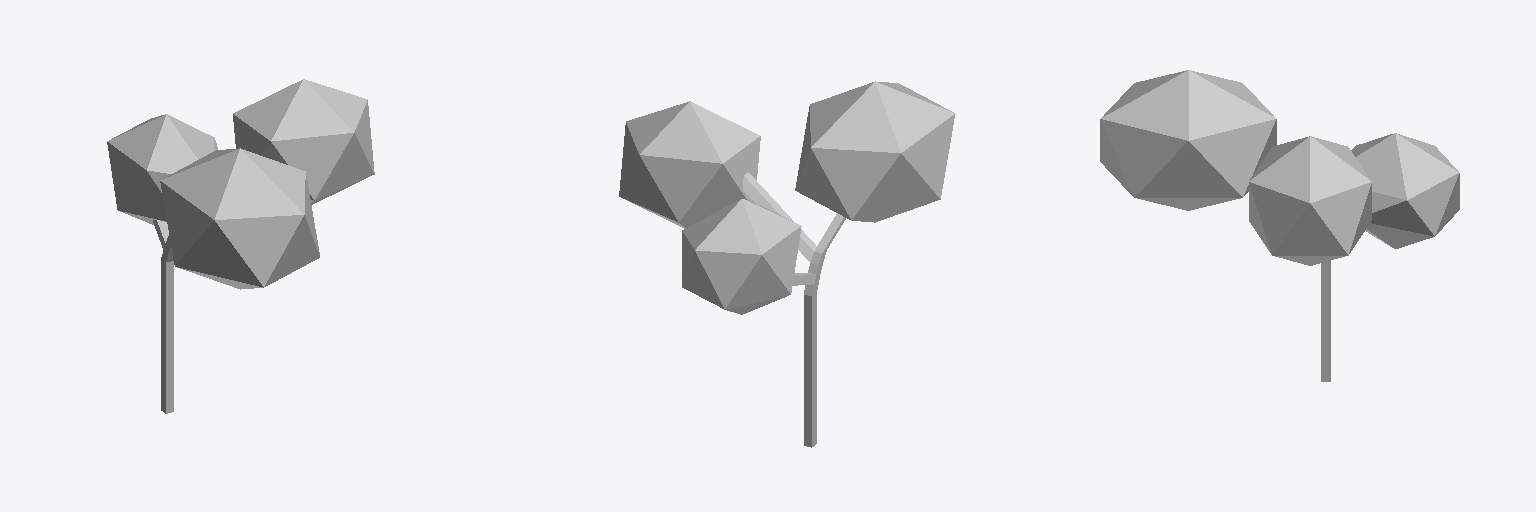
Rendered from treee.obj.
The picture shows the model from 3 angles: view 1: azimuth 30°, elevation 25°; view 2: azimuth 150°, elevation 25°; view 3: azimuth 270°, elevation 25°; orthographic projection.
Size of the model in its own units: 11.05 by 12.98 by 13.53.